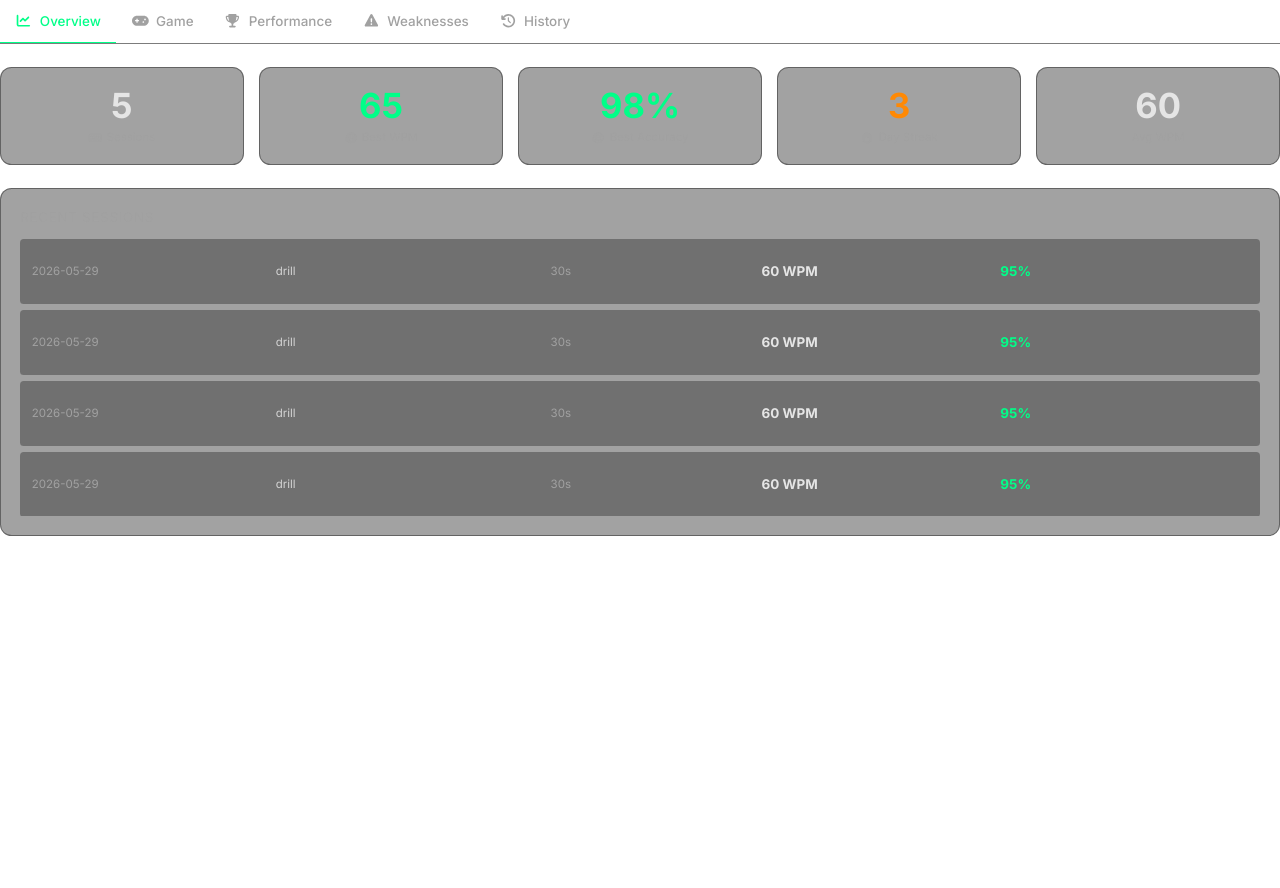
it: StatsTabs — panel content per tab › should render Performance panels when ≥5 sessions exist
// When the user opens Performance
Click the tab "Performance".
click(278, 22)  # box x1=209 y1=0 x2=348 y2=44
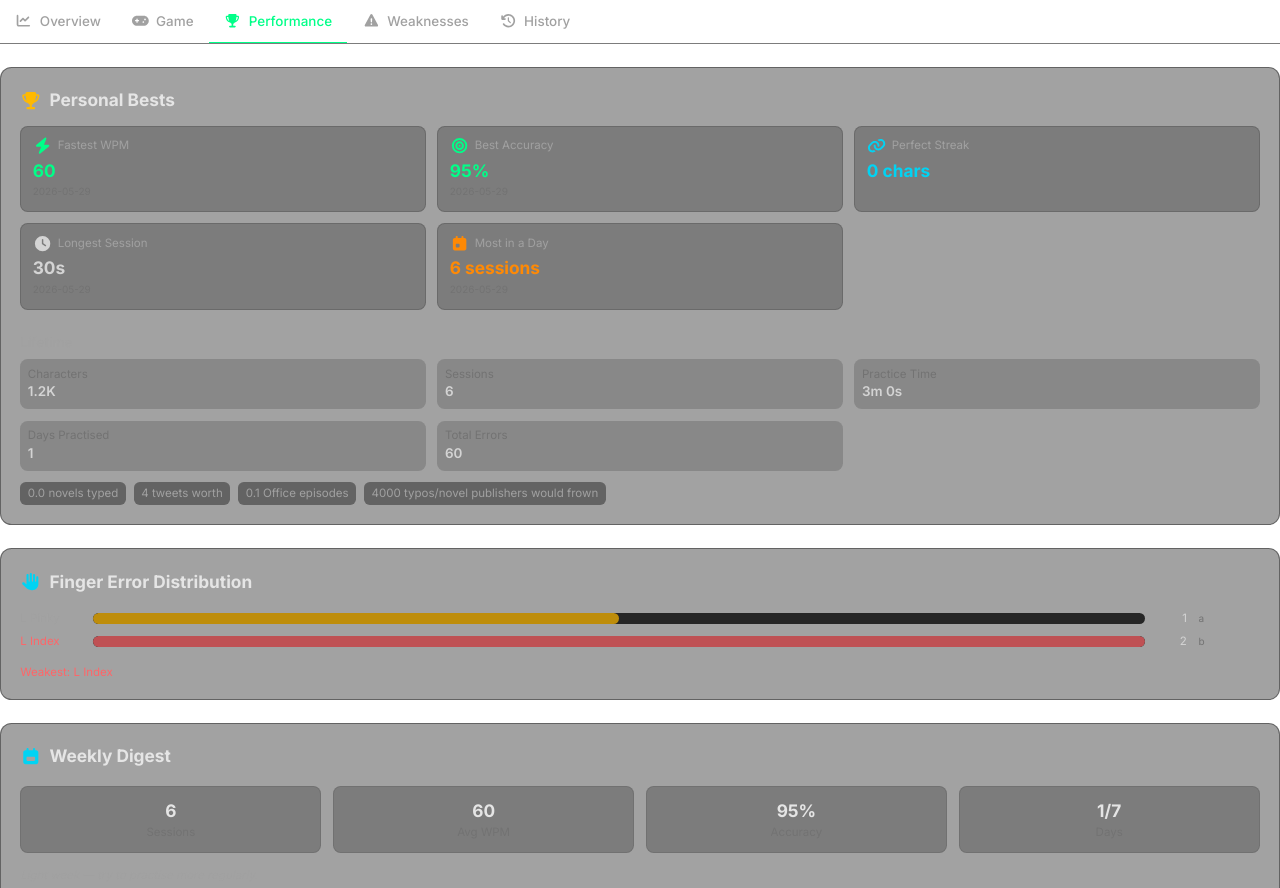
Check: the heading "Personal Bests" is shown, box x1=20 y1=89 x2=175 y2=110
